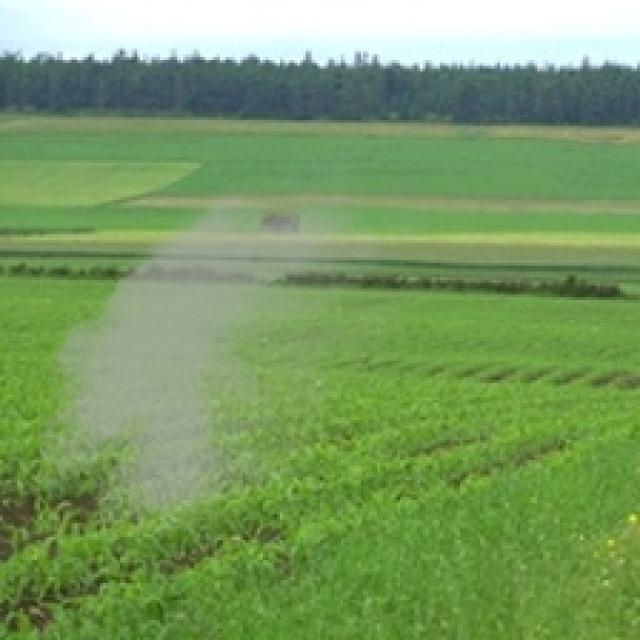Smoke: (20, 145, 443, 558)
